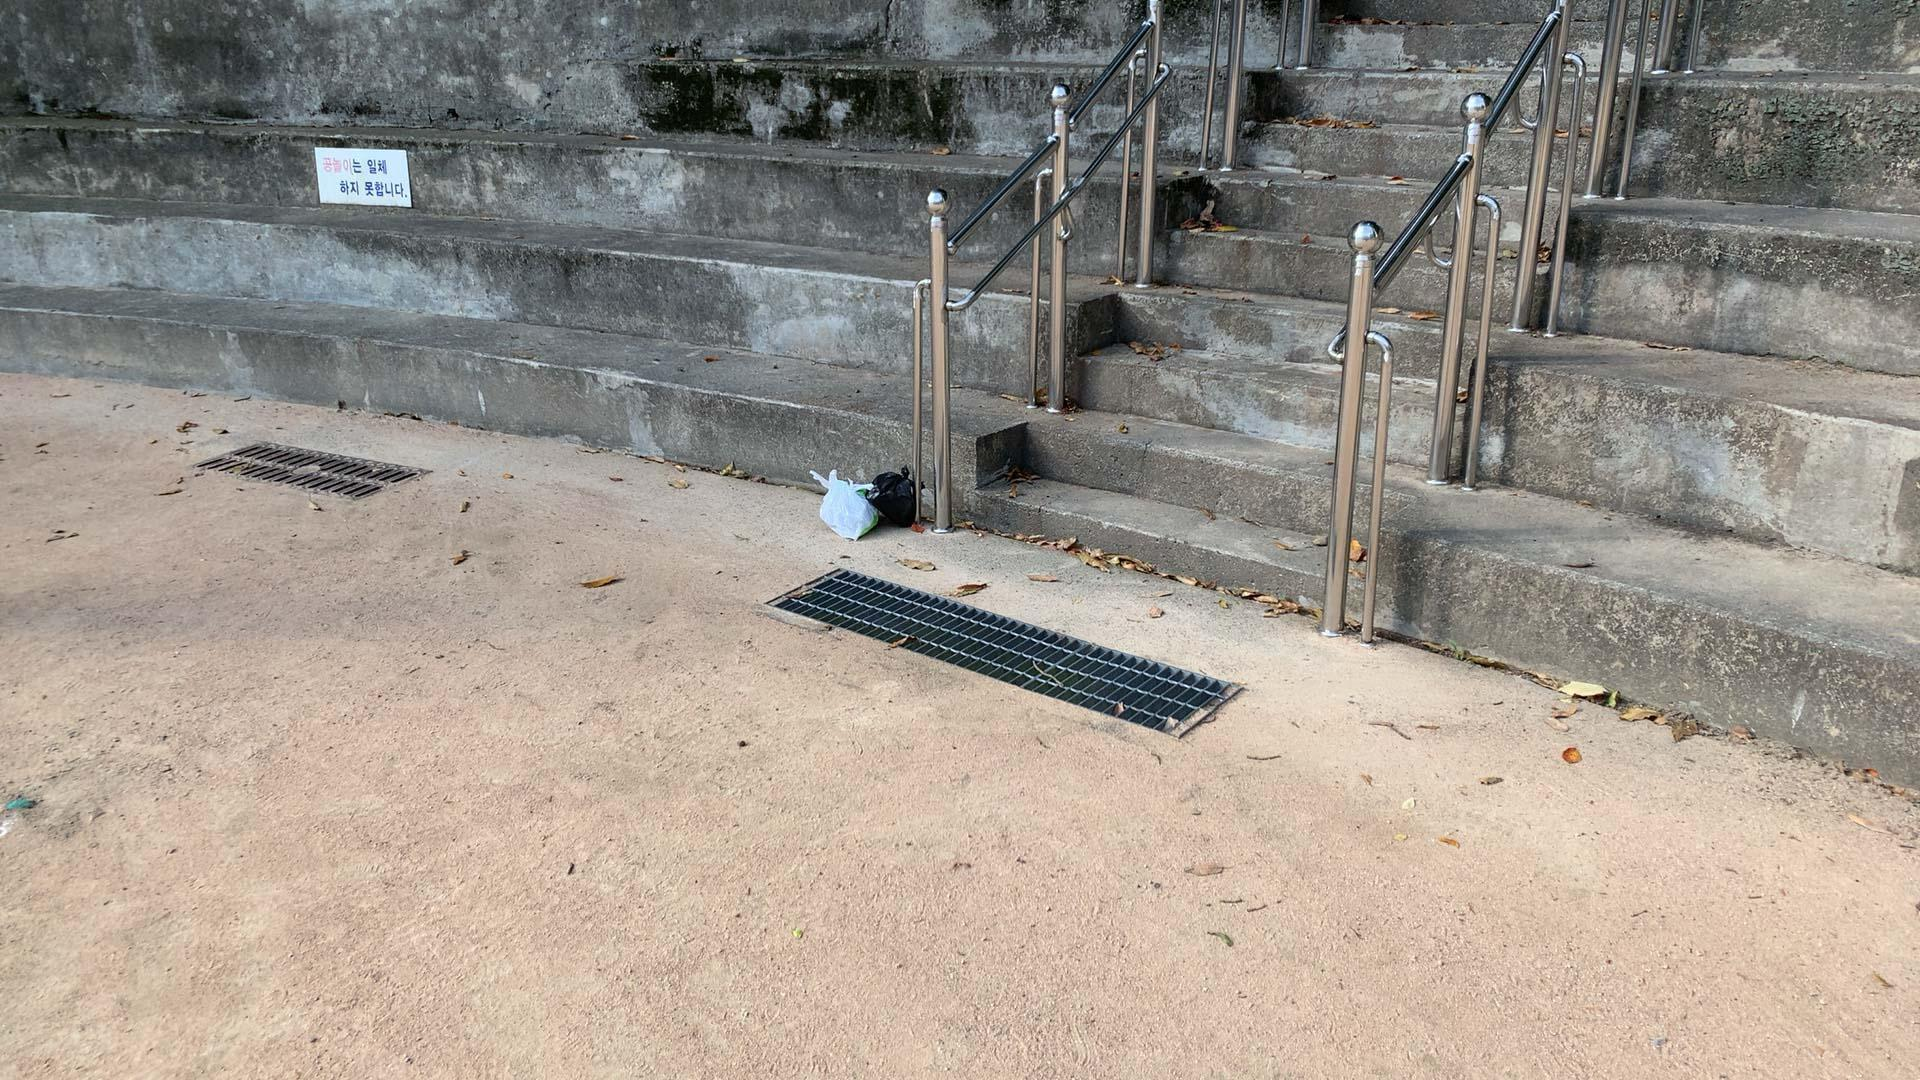black_bag: (862, 463, 924, 527)
white_bag: (807, 465, 884, 541)
